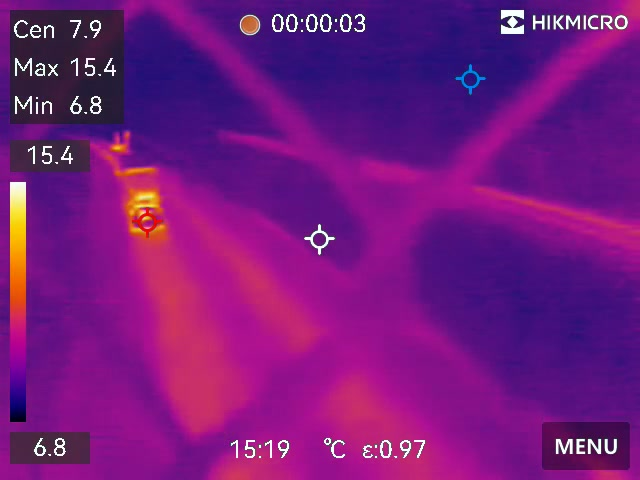vehicle: (118, 165, 171, 238)
